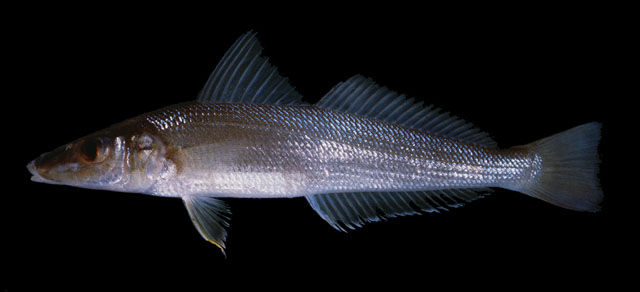fish: (26, 27, 603, 258)
